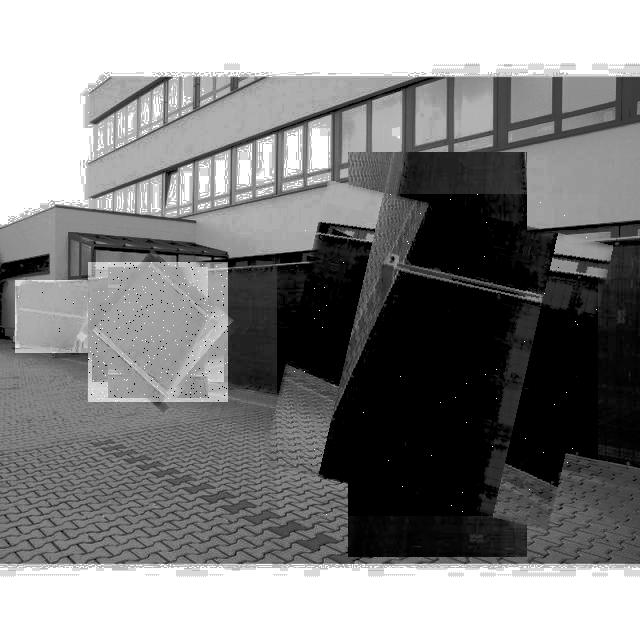fences: (277, 194, 598, 516), (88, 262, 228, 402), (15, 280, 88, 353)
